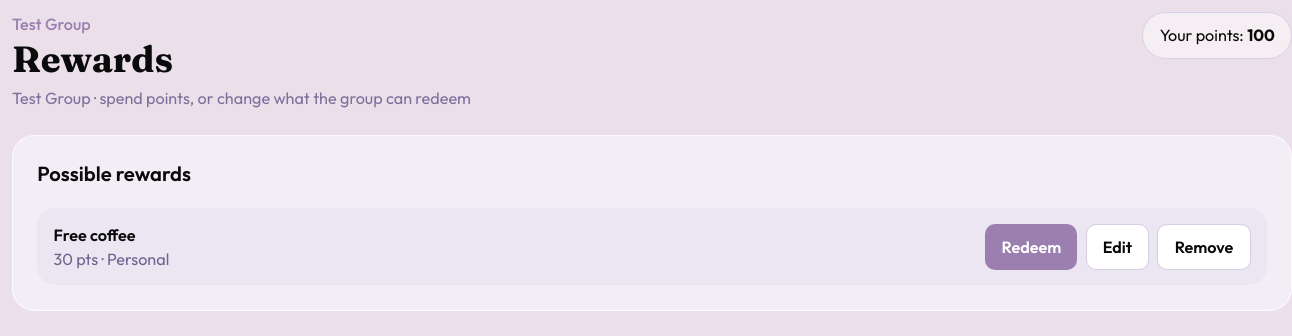
Scenario: Rewards page › removes a reward after confirmation
Expected: the text "Free coffee" is shown, [54, 225, 136, 245]
Click the button "Remove" at [1204, 247], box [1158, 224, 1251, 270]
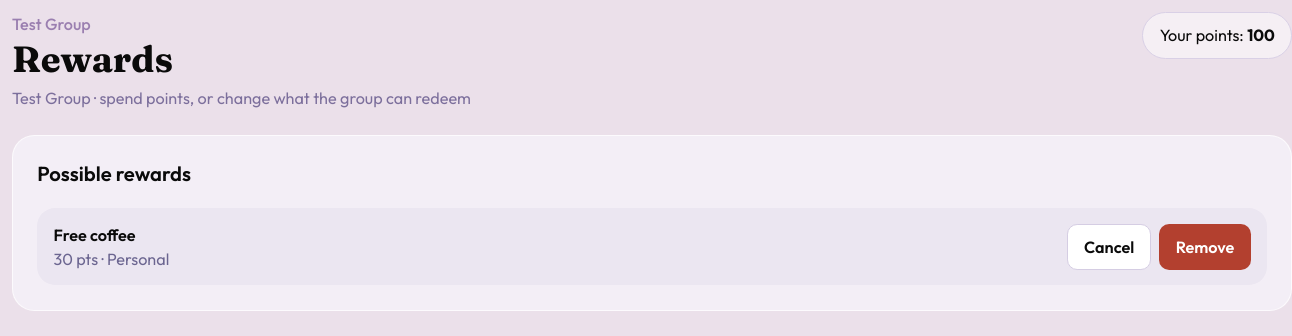
Click the button "Remove" at [1205, 247], box [1160, 224, 1251, 270]
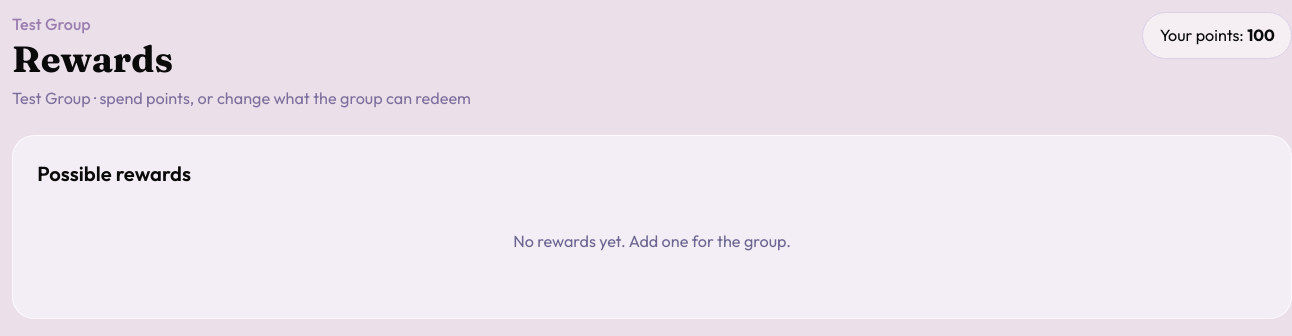
Now the text "Free coffee" is gone
